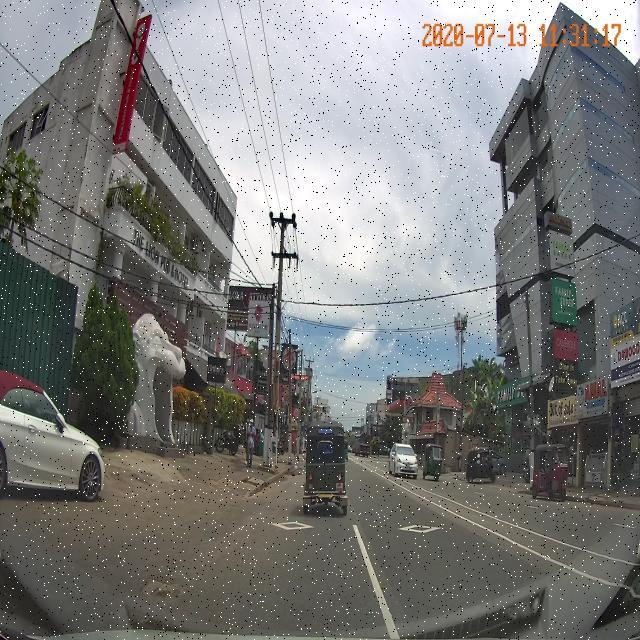diamond: (352, 514, 499, 545)
